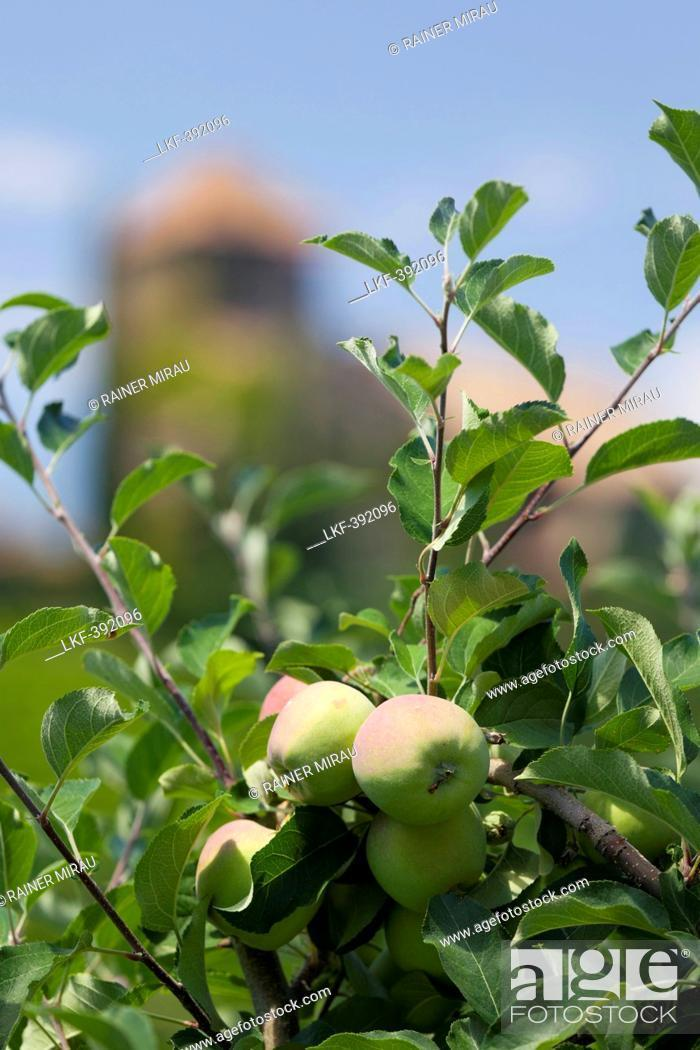apple: (351, 691, 489, 822), (191, 818, 317, 952), (261, 679, 376, 815), (360, 816, 488, 905)
